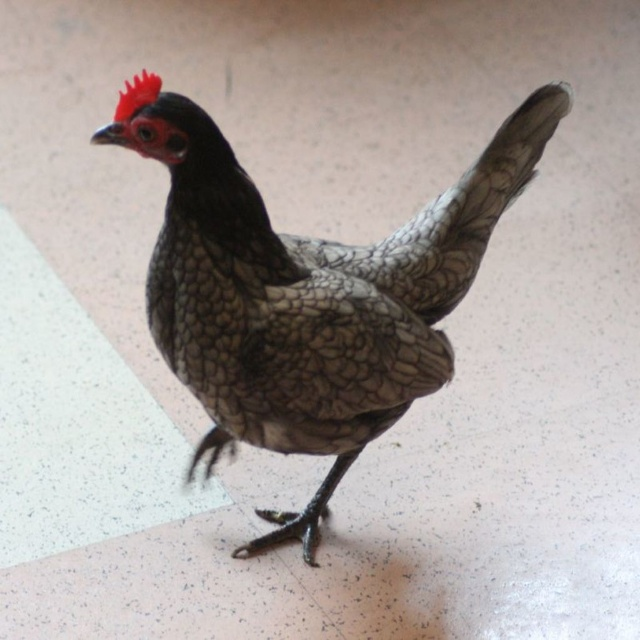Chicken: (97, 65, 571, 584)
